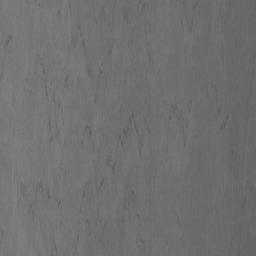Silk spot: (0, 0, 192, 256), (176, 0, 210, 49), (0, 35, 13, 83), (233, 177, 253, 208), (216, 107, 229, 131)
